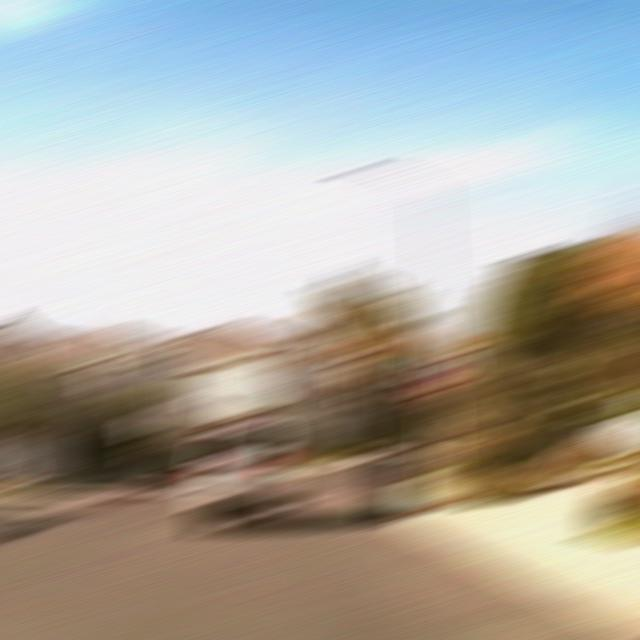stop: (418, 370, 458, 398)
